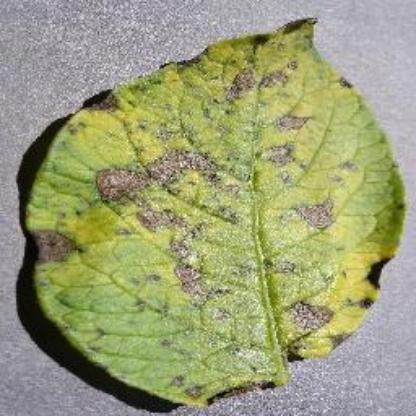Early-Blight: (21, 15, 410, 406)
